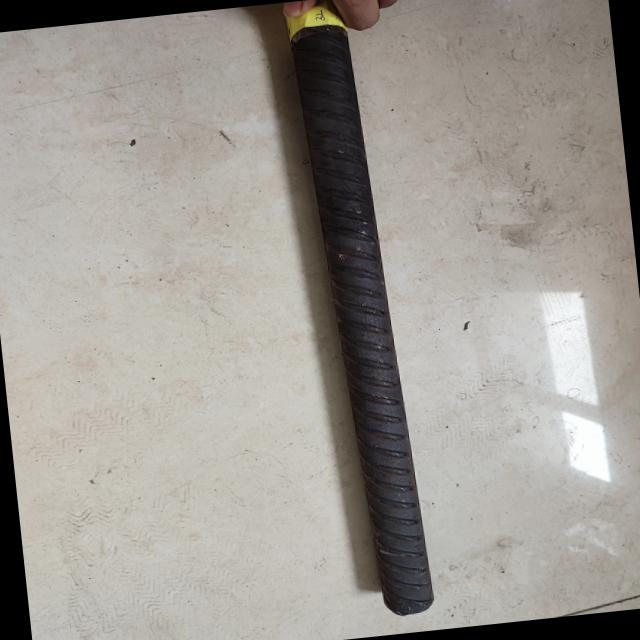ribbed bar: (271, 0, 441, 620)
